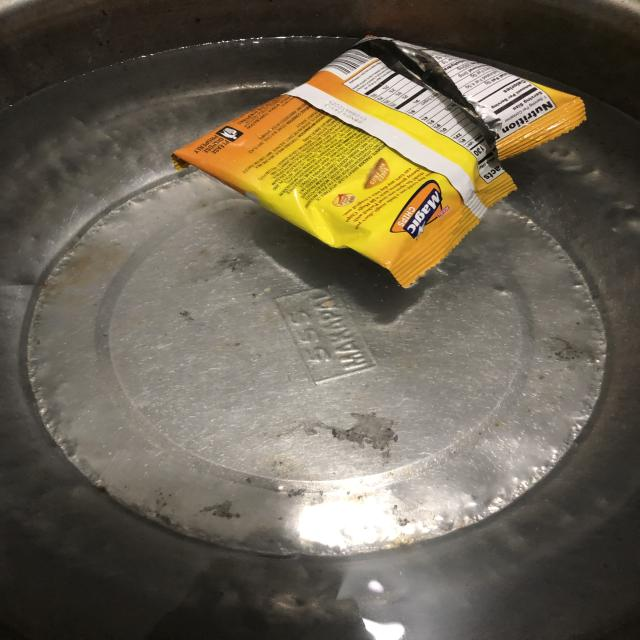Plastic Wrapper: (156, 24, 614, 308)
